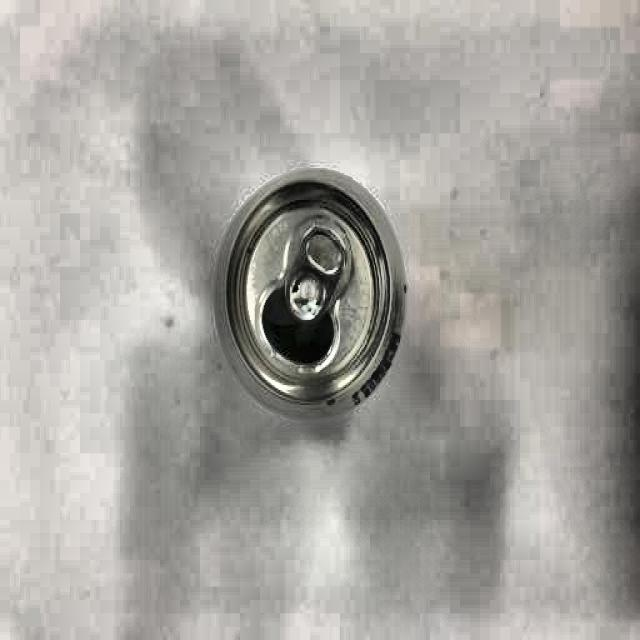metal: (219, 168, 411, 420)
